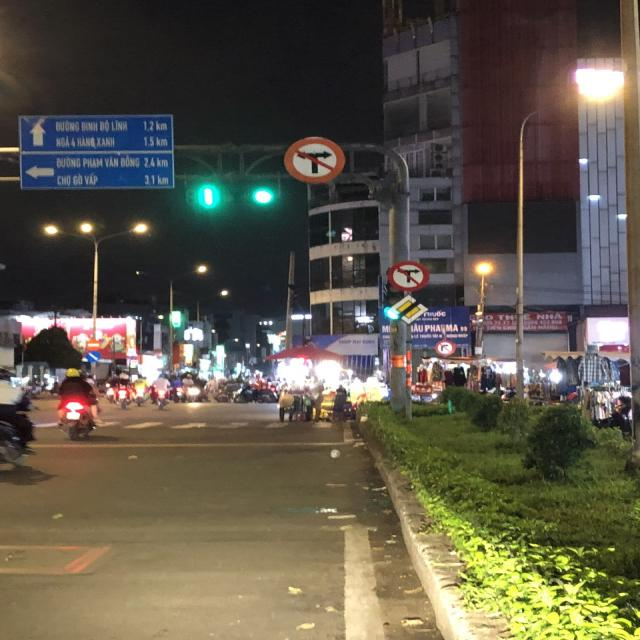Bien bao cam re phai: (433, 337, 460, 358)
